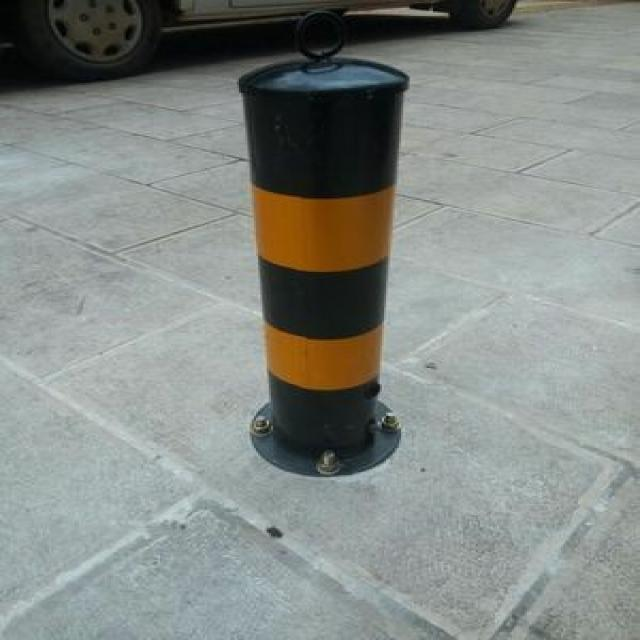car: (2, 0, 525, 74)
warning_column: (237, 16, 412, 475)
